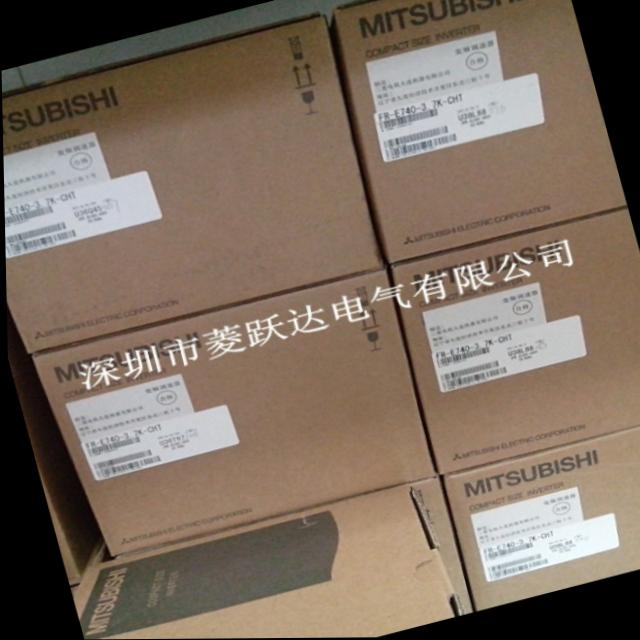box: (2, 10, 382, 355), (29, 268, 435, 559), (327, 0, 626, 268), (391, 206, 640, 476), (70, 483, 460, 640), (438, 426, 640, 611), (5, 299, 101, 577), (408, 475, 471, 613), (41, 483, 79, 586)
